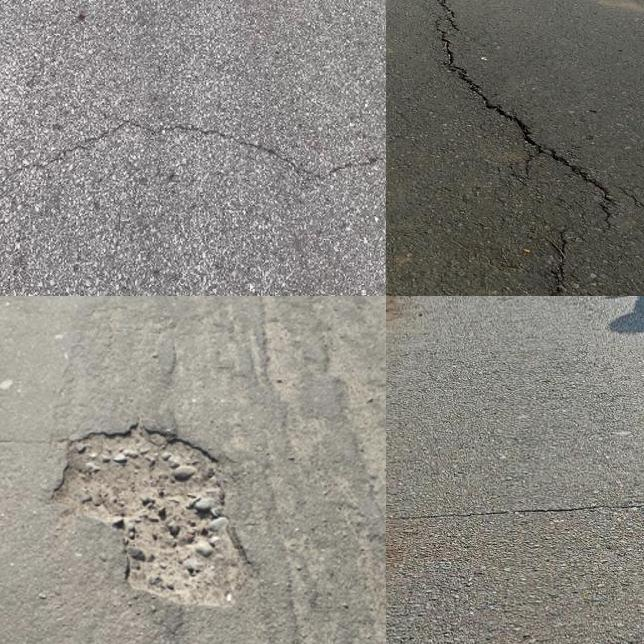Lubang: (46, 431, 261, 613)
Melintang: (0, 106, 386, 196), (386, 490, 644, 538)
Memanjang: (394, 0, 628, 296)
